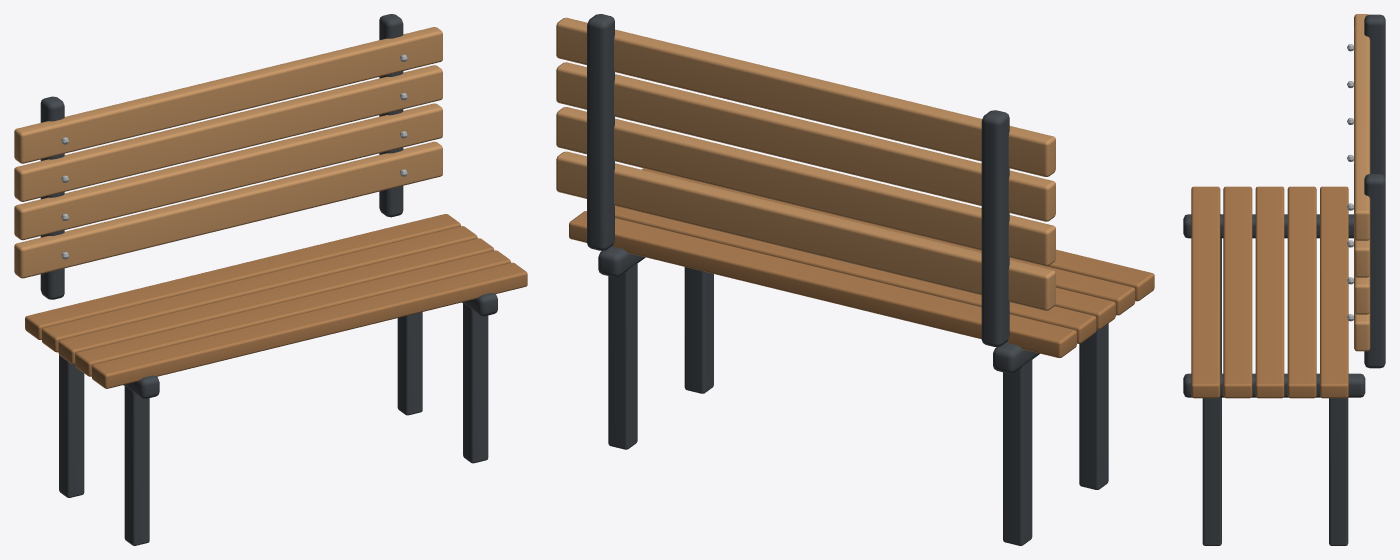
The model's file is Park_Bench_new.fbx.
3 views of the same model, side by side, from view 1: azimuth 30°, elevation 25°; view 2: azimuth 150°, elevation 25°; view 3: azimuth 270°, elevation 25° (orthographic). The views are drawn at different scales.
Visible parts, largest first — view 1: TRASHFORM_Park_Bench; view 2: TRASHFORM_Park_Bench; view 3: TRASHFORM_Park_Bench.
Part boxes in pixels (box(x1,y1,x2,y2)): TRASHFORM_Park_Bench: box(14, 14, 527, 545); TRASHFORM_Park_Bench: box(556, 14, 1154, 545); TRASHFORM_Park_Bench: box(1183, 14, 1385, 545).
Size of the model in its own units: 220 by 189 by 94.5.
